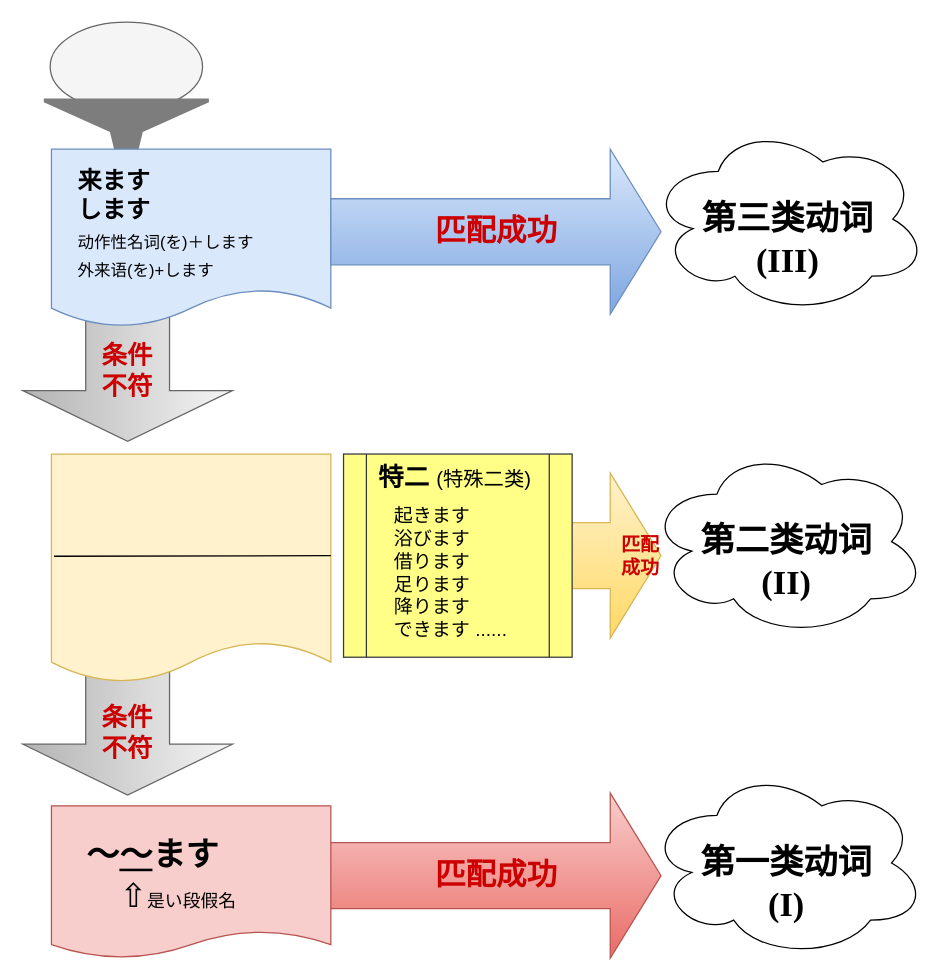
Image size: 950x980. Some labels were removed from this diagram. The centre of each missing label's shape, as x and y in pixels:
"〜 〜 ます ⇧ 是え段假名 〜 ます ⇧ 是一个音节" belongs at (x=190, y=568).
"动词ます形" belongs at (x=126, y=66).
